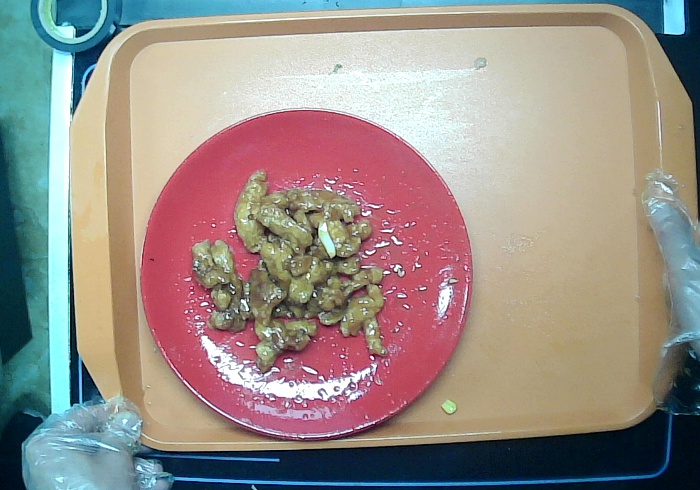HZYJPL-Hong_Se_Yuan_Pan: (138, 107, 472, 441)
